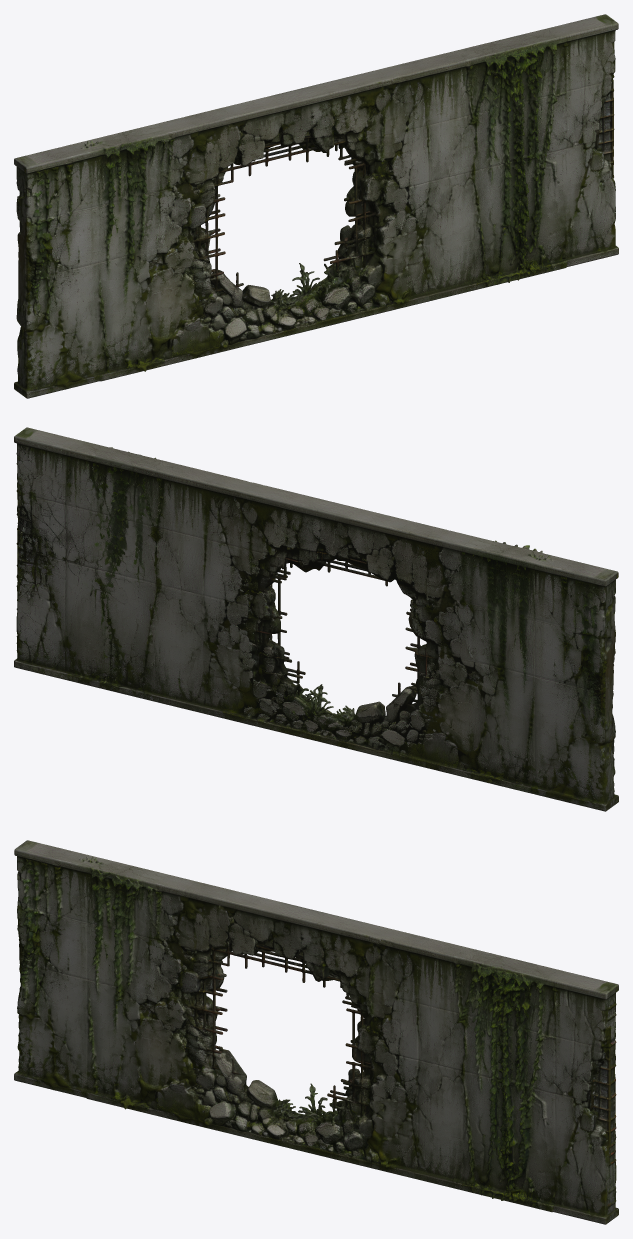
The model's file is wall_breach.glb.
3 renders of one model, top to bottom at view 1: azimuth 30°, elevation 25°; view 2: azimuth 150°, elevation 25°; view 3: azimuth 330°, elevation 25°, orthographic.
Parts seen in each view (by area): view 1: wall_breach; view 2: wall_breach; view 3: wall_breach.
Part boxes in pixels (x1=…): wall_breach: x1=14, y1=14, x2=618, y2=398; wall_breach: x1=14, y1=427, x2=618, y2=811; wall_breach: x1=14, y1=840, x2=618, y2=1224.
Bounding box in the file's own units: 190 × 72 × 12.02.
Materials: 1 (1 with a texture image).
